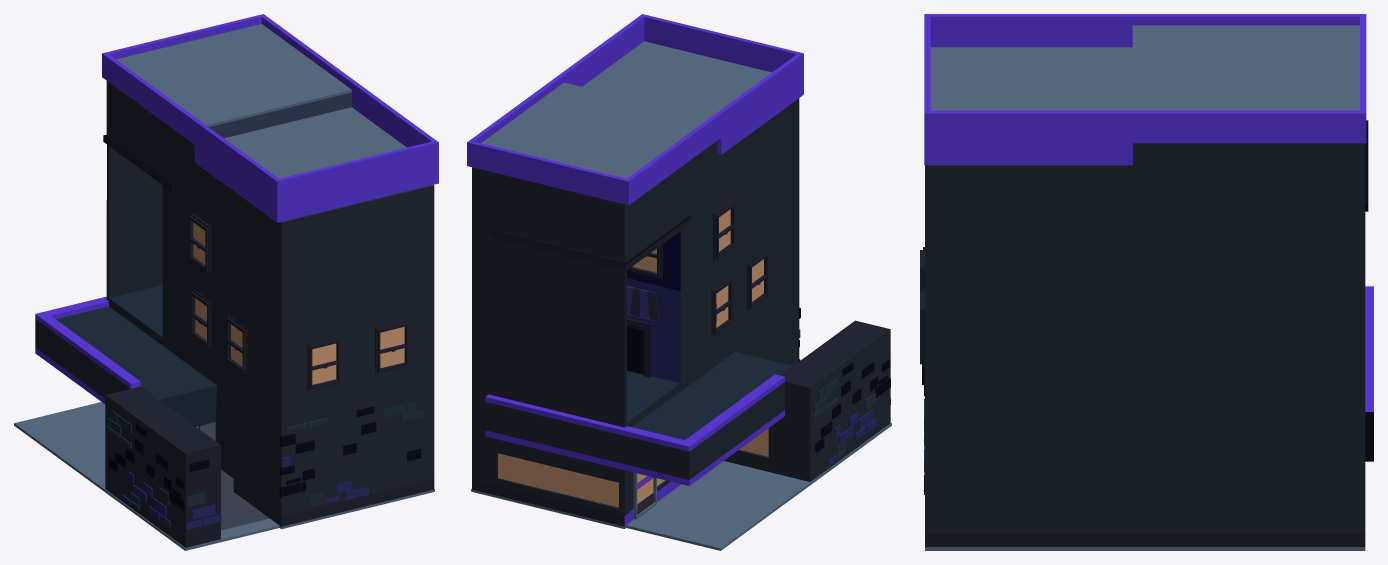
Rendered from Building_Sparrows and Jazz.fbx.
3 views of the same model, side by side, from view 1: azimuth 30°, elevation 25°; view 2: azimuth 150°, elevation 25°; view 3: azimuth 270°, elevation 25° (orthographic). The views are drawn at different scales.
Visible parts, largest first — view 1: Cube.649; view 2: Cube.649, Cube.650, Cube.647; view 3: Cube.649.
Boxes of the visible parts, x1,y1,x2,y2 form: Cube.649: [14, 14, 438, 550]; Cube.649: [467, 14, 891, 550]; Cube.650: [627, 285, 660, 377]; Cube.647: [633, 472, 656, 519]; Cube.649: [920, 14, 1373, 550].
Bounding box in the file's own units: 773 × 1023 × 957.
